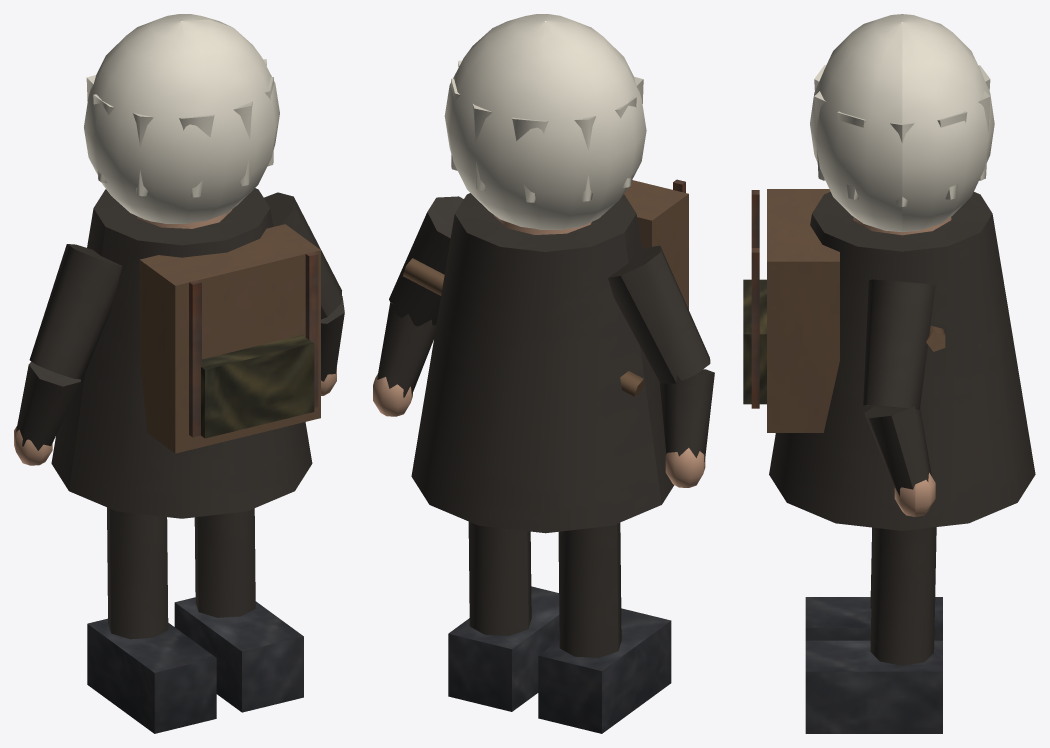
Rendered from Traveller_Static.glb.
3 renders of one model, left to right at view 1: azimuth 30°, elevation 25°; view 2: azimuth 150°, elevation 25°; view 3: azimuth 270°, elevation 25°, orthographic. The views are drawn at different scales.
Visible parts, largest first — view 1: Traveller_Static; view 2: Traveller_Static; view 3: Traveller_Static.
Part boxes in pixels (x1=…): Traveller_Static: x1=14, y1=14, x2=344, y2=733; Traveller_Static: x1=373, y1=14, x2=714, y2=733; Traveller_Static: x1=743, y1=14, x2=1035, y2=733.
Bounding box in the file's own units: 0.8752 × 1.73 × 0.6795.
Materials: 1 (1 with a texture image).
